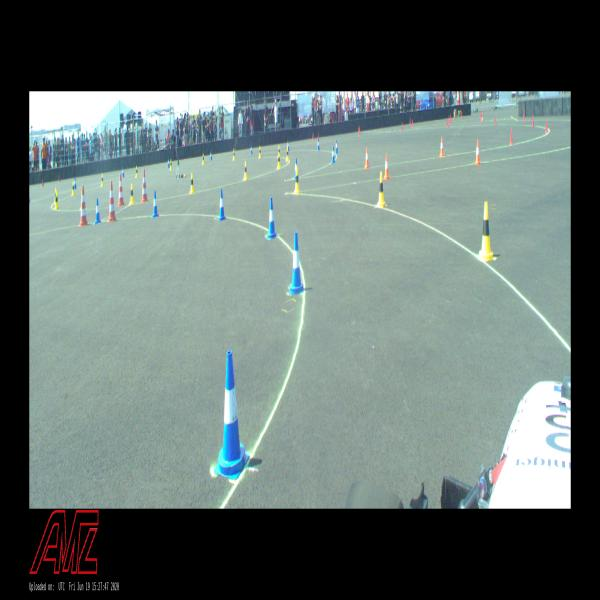blue_cone: (214, 351, 249, 479), (290, 232, 303, 292), (267, 198, 276, 238), (218, 189, 226, 221), (152, 191, 159, 217), (95, 198, 101, 224), (294, 159, 298, 178), (332, 146, 335, 163), (335, 140, 338, 153), (250, 144, 253, 155), (317, 139, 320, 150), (122, 166, 125, 177), (74, 178, 77, 189), (288, 140, 290, 151), (210, 150, 212, 160), (168, 157, 169, 168)
large_orange_cone: (78, 186, 89, 226), (107, 181, 117, 222), (141, 170, 148, 202), (117, 174, 124, 206)
orange_cone: (384, 154, 390, 179), (475, 140, 480, 164), (365, 147, 369, 168), (440, 136, 444, 157)
yellow_cone: (479, 202, 493, 261), (378, 172, 385, 207), (294, 168, 300, 193), (243, 161, 248, 180), (130, 184, 134, 204), (190, 174, 194, 193), (277, 153, 281, 169), (55, 192, 59, 208), (286, 147, 289, 161), (101, 174, 104, 186), (135, 166, 138, 177), (202, 154, 205, 164), (54, 188, 56, 203), (72, 181, 74, 195), (278, 145, 280, 158), (259, 146, 261, 158), (170, 159, 172, 170), (233, 150, 235, 160)
